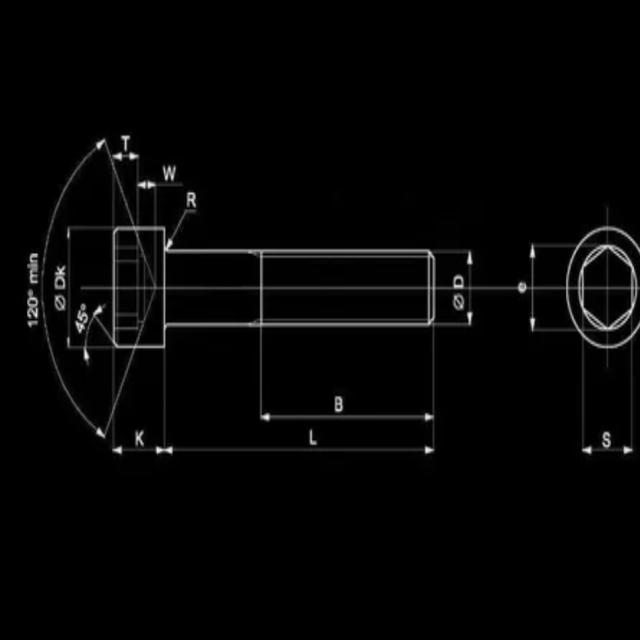marking_line: (163, 447, 439, 457), (85, 303, 115, 368), (261, 412, 435, 423), (168, 205, 200, 250), (466, 250, 476, 326), (528, 243, 536, 331), (111, 446, 165, 458), (579, 445, 633, 454), (138, 179, 157, 193), (111, 153, 139, 162)
numeric: (26, 296, 42, 329), (73, 307, 89, 335)
special_symbol: (450, 291, 470, 314), (53, 293, 65, 313)
